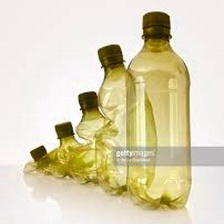bottle: (123, 6, 194, 213), (92, 38, 160, 199), (73, 89, 117, 189), (48, 119, 87, 181), (18, 137, 62, 182)
